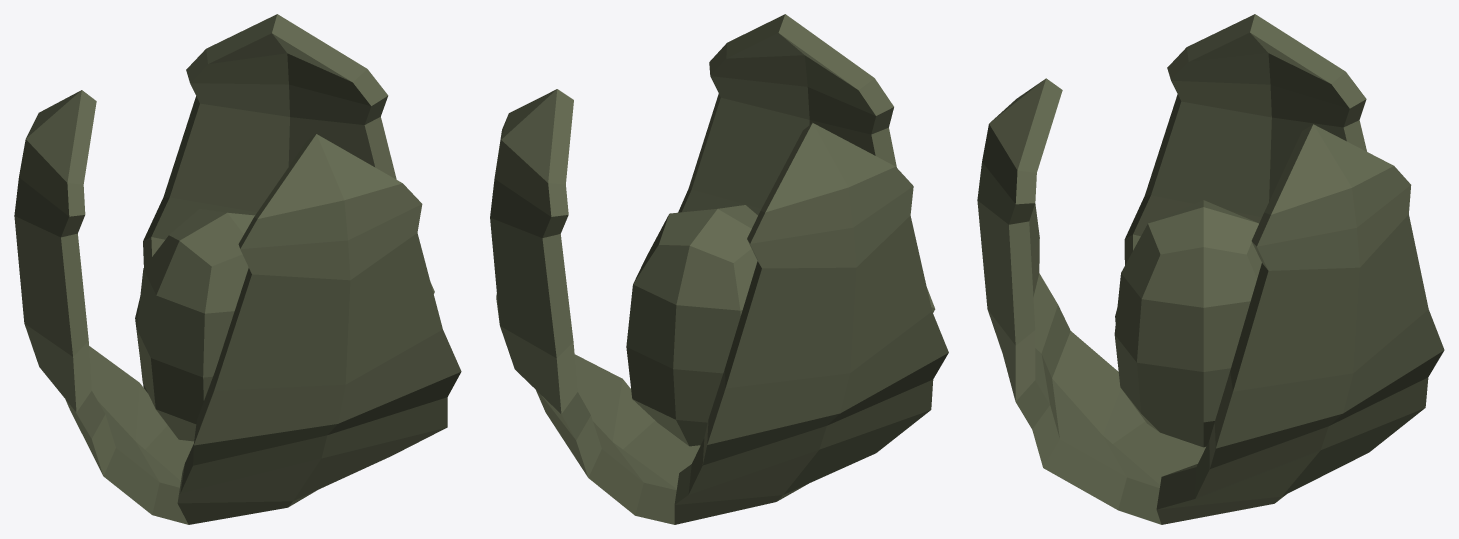
Rendered from lettuce_2.gltf.
The picture shows the model from 3 angles, left to right: view 1: azimuth 30°, elevation 25°; view 2: azimuth 150°, elevation 25°; view 3: azimuth 270°, elevation 25°; orthographic projection.
Visible parts, largest first — view 1: lettuce_2; view 2: lettuce_2; view 3: lettuce_2.
Part boxes in pixels (x1,y1,x2,y2): lettuce_2: (14, 14, 461, 524); lettuce_2: (490, 14, 948, 524); lettuce_2: (977, 14, 1444, 524).
Size of the model in its own units: 0.3689 by 0.354 by 0.3673.
Materials: 1 (1 with a texture image).
